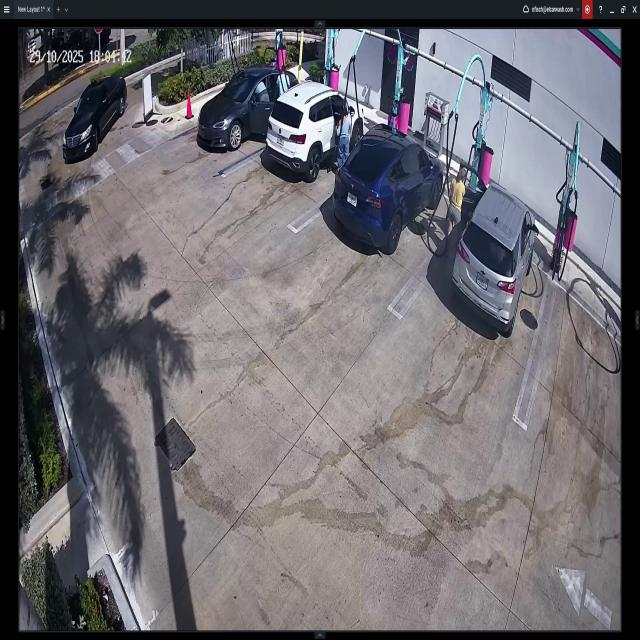Car: (451, 158, 535, 324), (334, 129, 443, 254), (269, 81, 361, 180), (197, 67, 300, 150), (64, 75, 125, 161)
